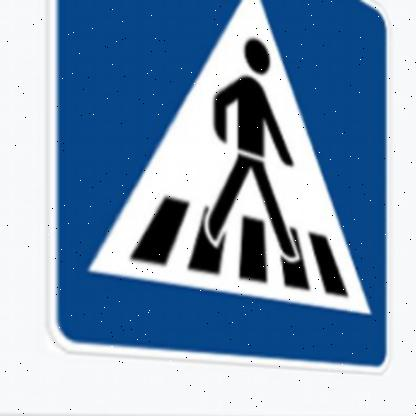Pedestrian Crossing: (49, 1, 390, 387)
